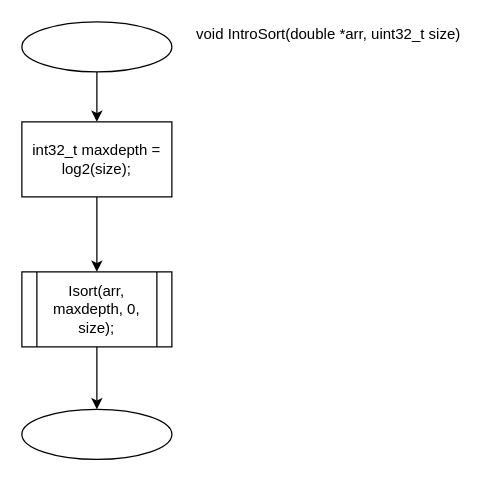
This 494x481 diagram has some shape labels left out. The shapes that lost their labels are listed below. From the top down, each one's centre as x and y in pixels, then its label:
At (96,46): "начало алгоритма".
At (96,433): "конец алгоритма".
